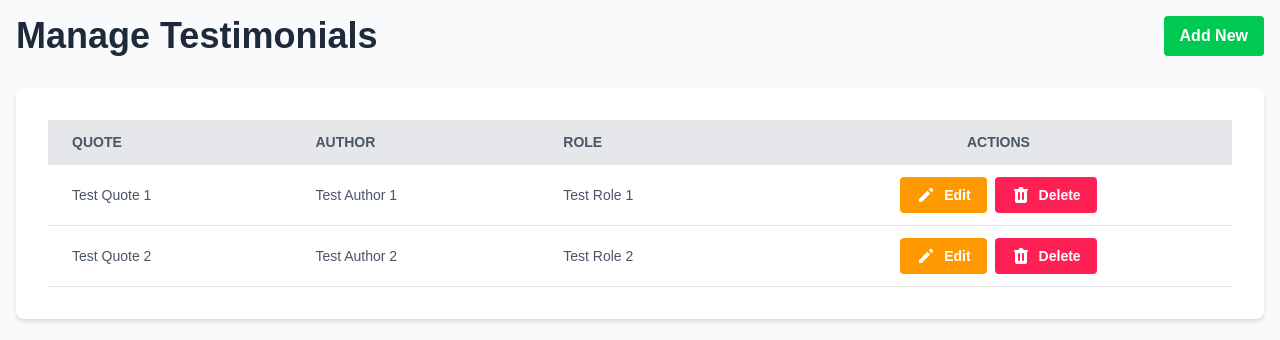
Test: TestimonialsPage › deletes a testimonial when delete is confirmed
Click the button "Delete" in the row of "Test Quote 1": {"x": 1046, "y": 195} x1=995 y1=177 x2=1097 y2=213
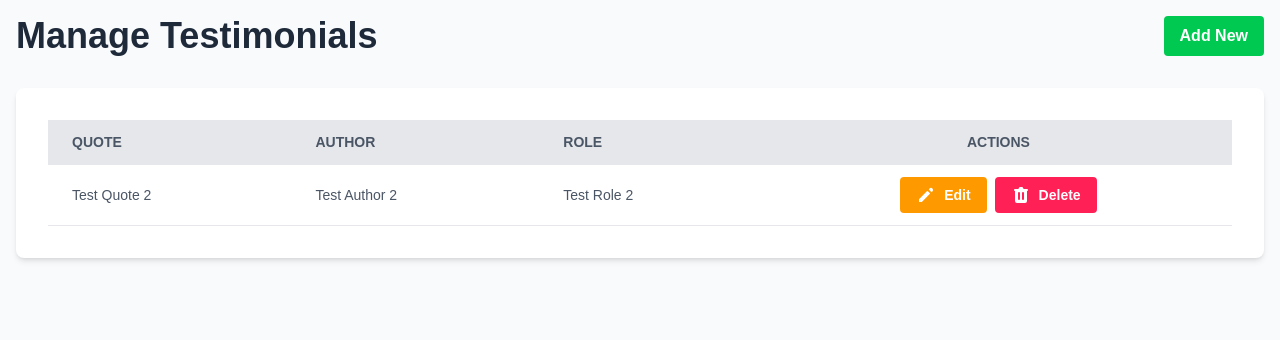
Check: the text "Test Quote 1" is gone
